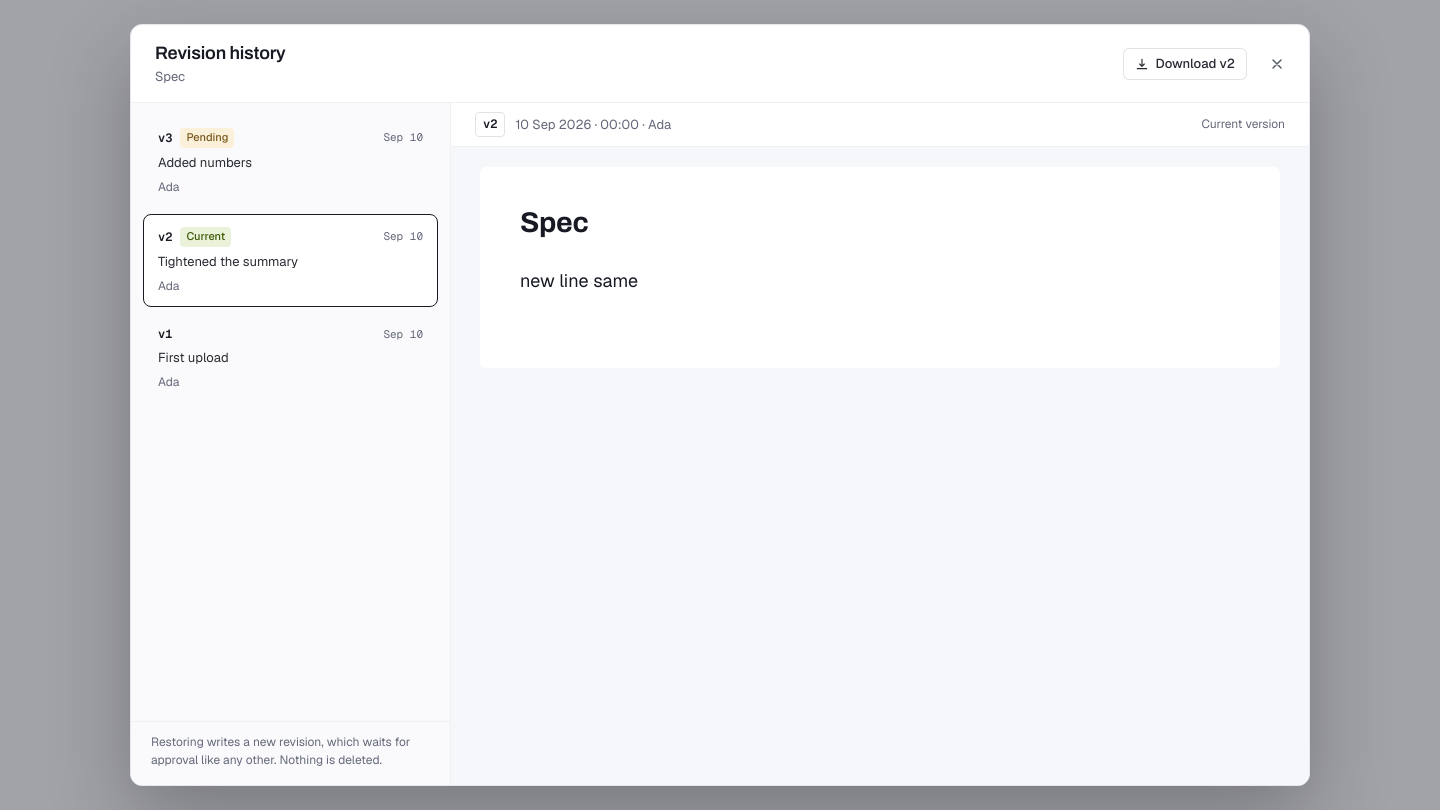
HistoryDialog › restores through the restore endpoint
Step 1. Click the button "v1 Sep 10 First upload Ada" → [403, 334], box top-left (143, 313), bottom-right (438, 404)
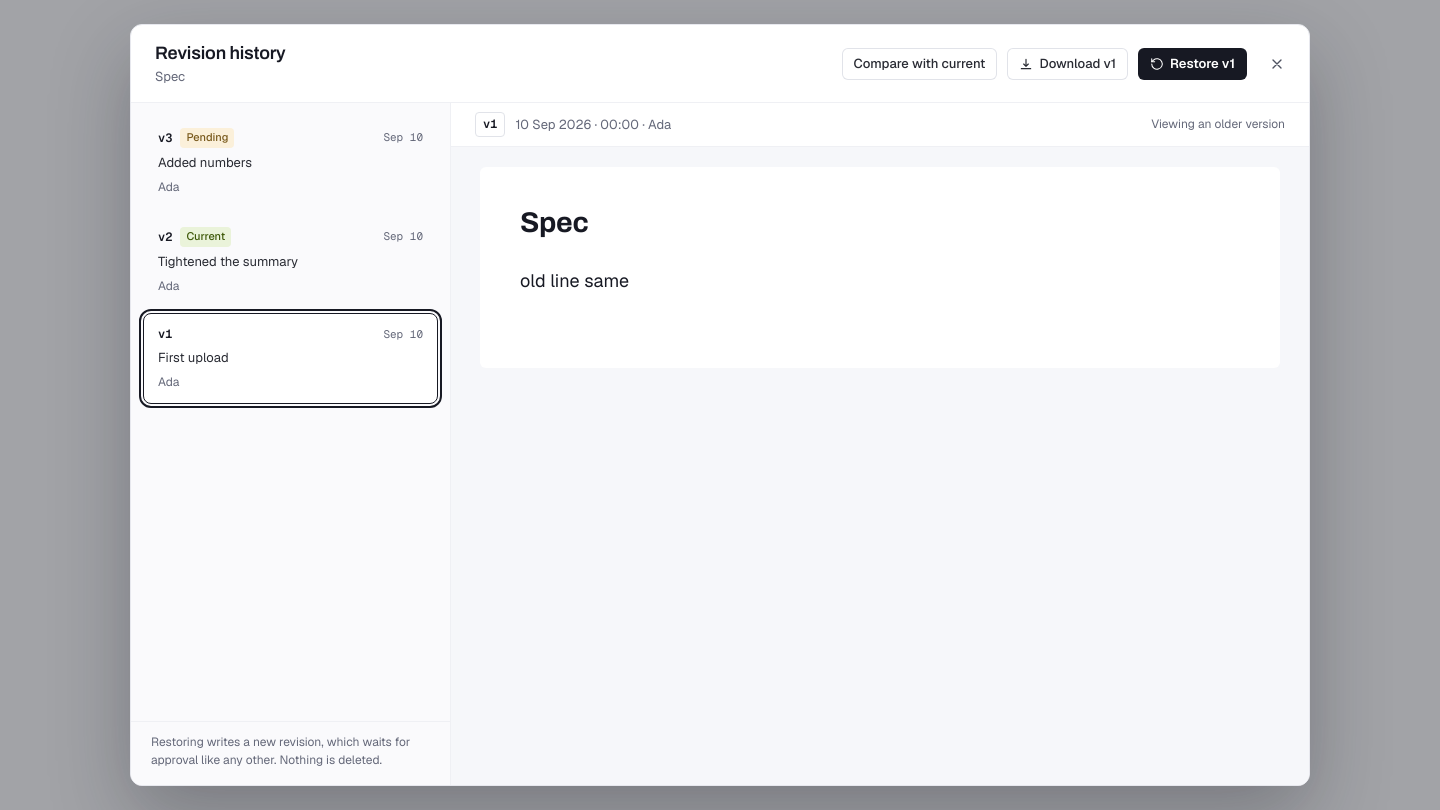
Step 2. Click the button "Restore v1" → [1193, 64], box top-left (1138, 48), bottom-right (1247, 80)
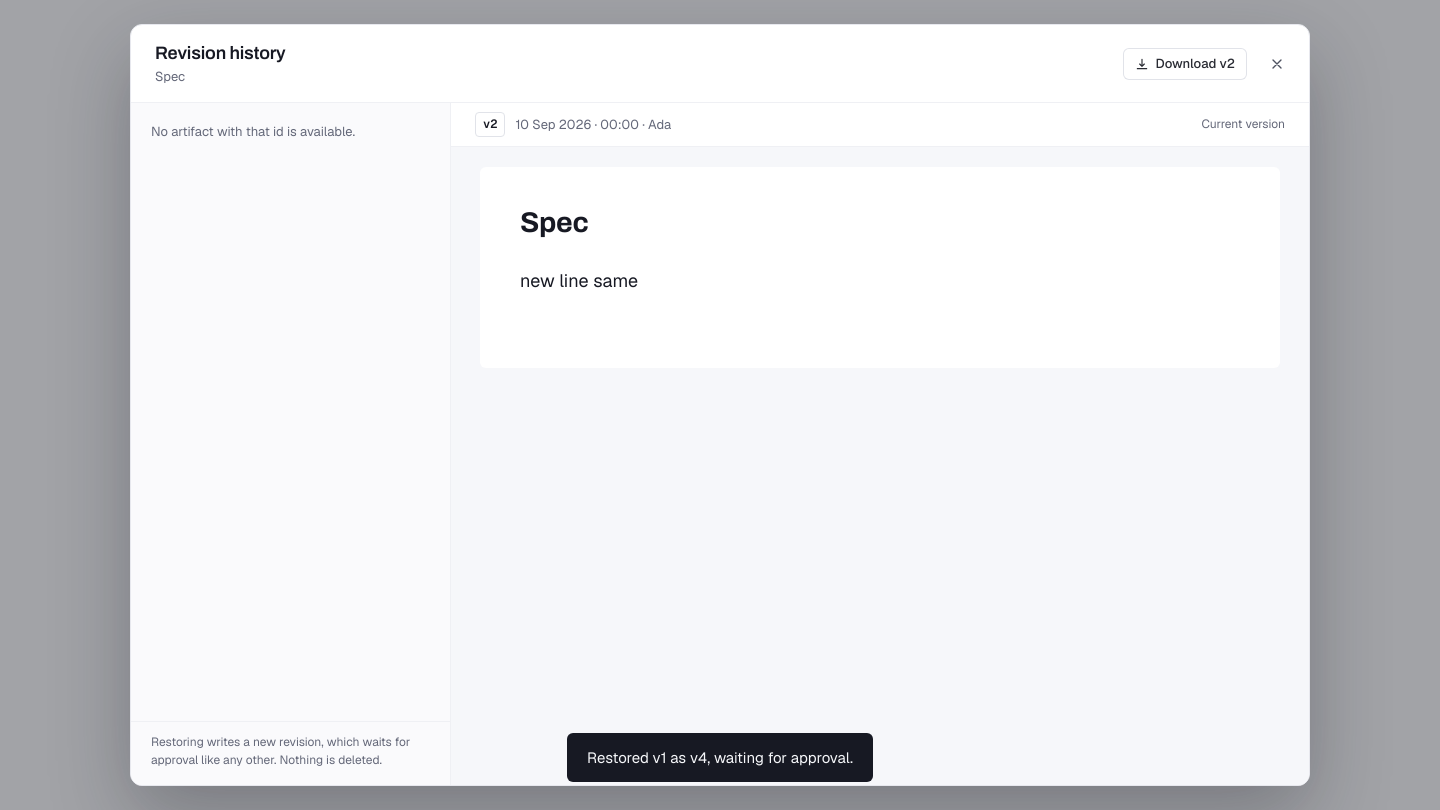
Result: the message "Restored v1 as v4, waiting for approval." is shown at top-left (567, 733), bottom-right (873, 782)
